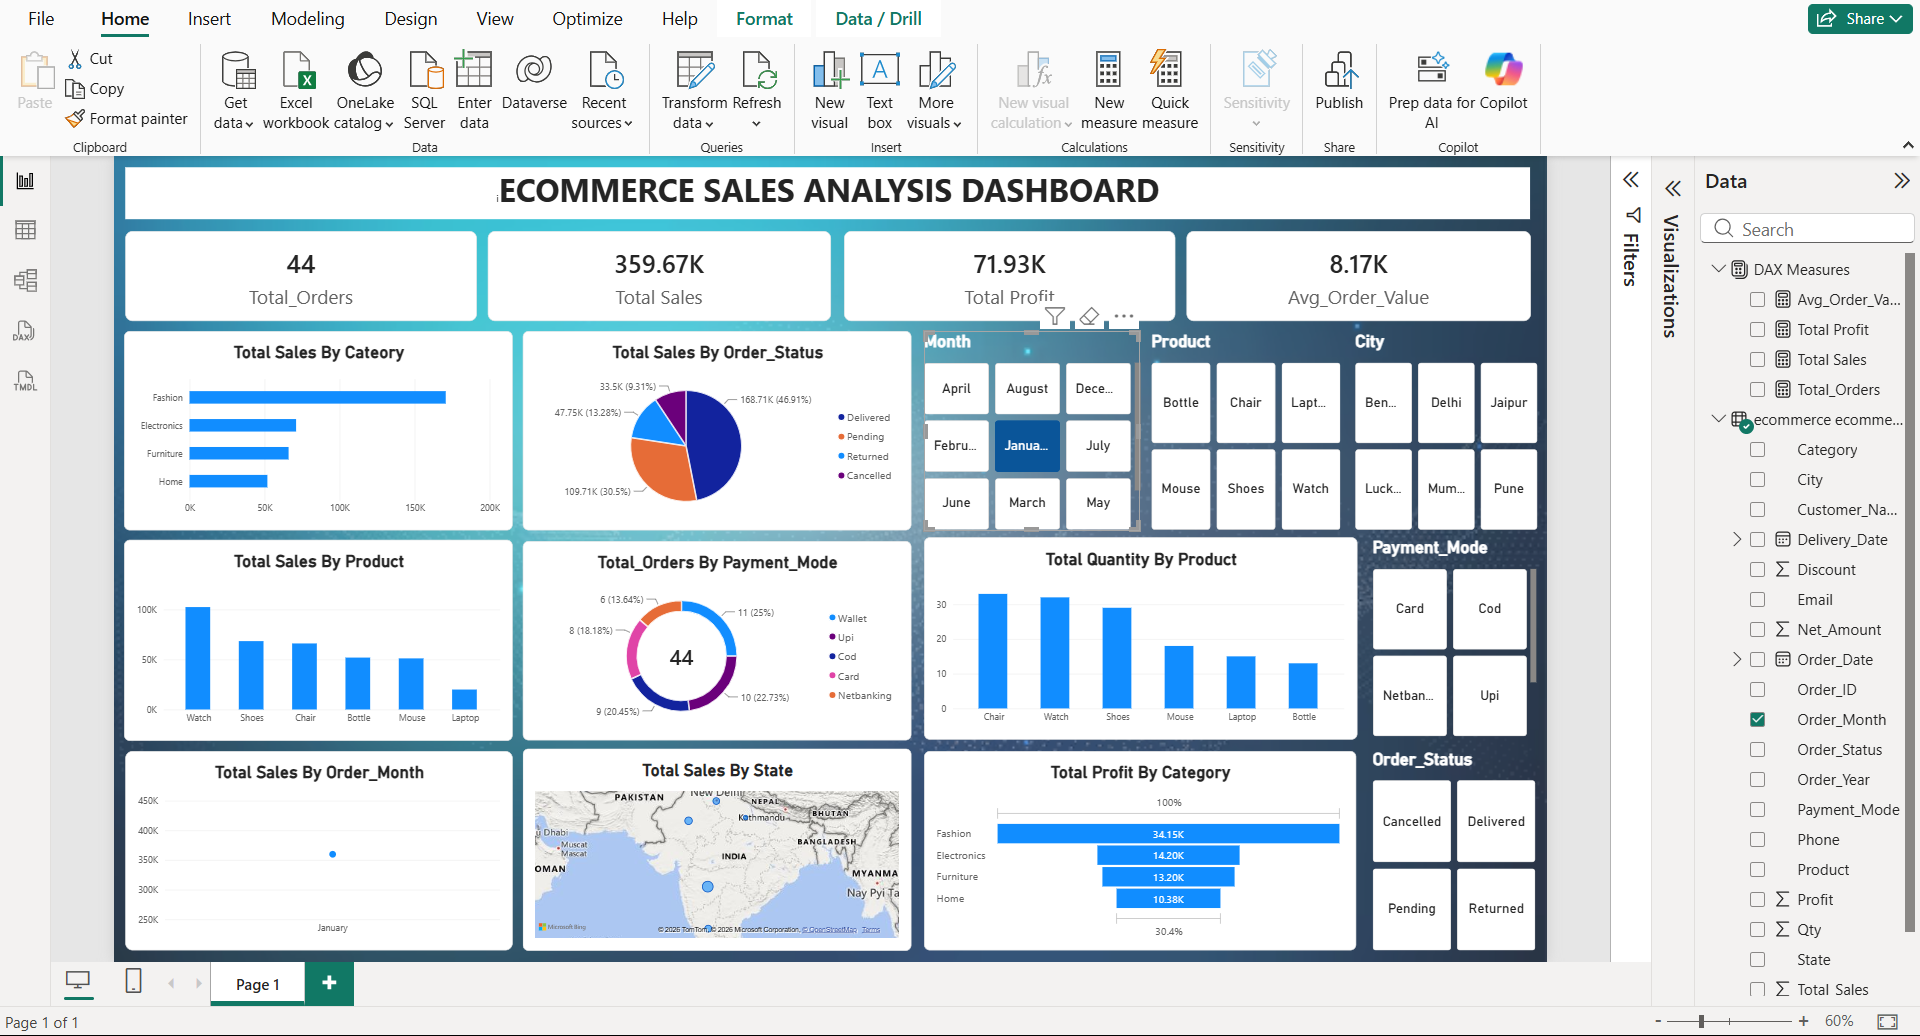

This screenshot's page, from the dashboard's own definition file:
{"tool":"powerbi","page":{"name":"Page 1","canvas":[1920,1080],"ordinal":0},"visuals":[{"type":"card","fields":{"Values":["DAX Measures.Total_Orders"]},"box":[15.4,100,471.2,121.2],"z":0},{"type":"card","fields":{"Values":["DAX Measures.Total Sales"]},"box":[500,100,459.6,121.2],"z":1},{"type":"card","fields":{"Values":["DAX Measures.Total Profit"]},"box":[978.8,100,444.2,121.2],"z":2},{"type":"card","fields":{"Values":["DAX Measures.Avg_Order_Value"]},"box":[1436.5,100,461.5,121.2],"z":3},{"type":"lineChart","fields":{"Y":["DAX Measures.Total Sales"],"Category":["ecommerce ecommerce_data.Order_Month"]},"box":[15.4,798.1,519.2,267.3],"z":4},{"type":"columnChart","fields":{"Y":["DAX Measures.Total Sales"],"Category":["ecommerce ecommerce_data.Product"]},"box":[13.5,513.5,521.2,269.2],"z":5},{"type":"columnChart","fields":{"Category":["ecommerce ecommerce_data.Product"],"Y":["Sum(ecommerce ecommerce_data.Qty)"]},"box":[1084.6,511.5,580.8,271.2],"z":6},{"type":"map","fields":{"Category":["ecommerce ecommerce_data.State","ecommerce ecommerce_data.City"],"Size":["DAX Measures.Total Sales"]},"box":[548.1,794.2,521.2,271.2],"z":7},{"type":"funnel","fields":{"Y":["DAX Measures.Total Profit"],"Category":["ecommerce ecommerce_data.Category"]},"box":[1084.6,798.1,578.8,267.3],"z":8},{"type":"donutChart","fields":{"Category":["ecommerce ecommerce_data.Payment_Mode"],"Y":["DAX Measures.Total_Orders"]},"box":[548.1,515.4,521.2,267.3],"z":9},{"type":"clusteredBarChart","fields":{"Category":["ecommerce ecommerce_data.Category"],"Y":["DAX Measures.Total Sales"]},"box":[13.5,234.6,521.2,267.3],"z":10},{"type":"pieChart","fields":{"Category":["ecommerce ecommerce_data.Order_Status"],"Y":["DAX Measures.Total Sales"]},"box":[548.1,234.6,521.2,267.3],"z":11},{"type":"advancedSlicerVisual","title":"Month","fields":{"Values":["ecommerce ecommerce_data.Order_Month"]},"box":[1084.6,234.6,290.4,267.3],"z":12},{"type":"advancedSlicerVisual","fields":{"Values":["ecommerce ecommerce_data.Order_Status"]},"box":[1686.5,794.2,219.2,271.2],"z":13},{"type":"advancedSlicerVisual","fields":{"Values":["ecommerce ecommerce_data.Payment_Mode"]},"box":[1686.5,511.5,219,267],"z":14},{"type":"advancedSlicerVisual","fields":{"Values":["ecommerce ecommerce_data.Product"]},"box":[1390.4,234.6,255.8,267.3],"z":15},{"type":"advancedSlicerVisual","fields":{"Values":["ecommerce ecommerce_data.City"]},"box":[1663.5,234.6,244.2,267.3],"z":16},{"type":"textbox","box":[100,100,300,300],"z":17},{"type":"textbox","box":[15.4,15.4,1882.7,69.2],"z":18}]}

Visuals, with their boxes on the page's 1920x1080 design canvas (x1, y1, x2, y2). These are canvas units, not pixel positions in the 1920x1036 screenshot, which may show the page scaled, cropped or inside an application window:
card - DAX Measures.Total_Orders: [x1=15, y1=100, x2=487, y2=221]
card - DAX Measures.Total Sales: [x1=500, y1=100, x2=960, y2=221]
card - DAX Measures.Total Profit: [x1=979, y1=100, x2=1423, y2=221]
card - DAX Measures.Avg_Order_Value: [x1=1436, y1=100, x2=1898, y2=221]
lineChart - DAX Measures.Total Sales x ecommerce ecommerce_data.Order_Month: [x1=15, y1=798, x2=535, y2=1065]
columnChart - DAX Measures.Total Sales x ecommerce ecommerce_data.Product: [x1=14, y1=514, x2=535, y2=783]
columnChart - ecommerce ecommerce_data.Product x Sum(ecommerce ecommerce_data.Qty): [x1=1085, y1=512, x2=1665, y2=783]
map - ecommerce ecommerce_data.State x ecommerce ecommerce_data.City: [x1=548, y1=794, x2=1069, y2=1065]
funnel - DAX Measures.Total Profit x ecommerce ecommerce_data.Category: [x1=1085, y1=798, x2=1663, y2=1065]
donutChart - ecommerce ecommerce_data.Payment_Mode x DAX Measures.Total_Orders: [x1=548, y1=515, x2=1069, y2=783]
clusteredBarChart - ecommerce ecommerce_data.Category x DAX Measures.Total Sales: [x1=14, y1=235, x2=535, y2=502]
pieChart - ecommerce ecommerce_data.Order_Status x DAX Measures.Total Sales: [x1=548, y1=235, x2=1069, y2=502]
"Month" advancedSlicerVisual: [x1=1085, y1=235, x2=1375, y2=502]
advancedSlicerVisual - ecommerce ecommerce_data.Order_Status: [x1=1686, y1=794, x2=1906, y2=1065]
advancedSlicerVisual - ecommerce ecommerce_data.Payment_Mode: [x1=1686, y1=512, x2=1906, y2=778]
advancedSlicerVisual - ecommerce ecommerce_data.Product: [x1=1390, y1=235, x2=1646, y2=502]
advancedSlicerVisual - ecommerce ecommerce_data.City: [x1=1664, y1=235, x2=1908, y2=502]
textbox: [x1=100, y1=100, x2=400, y2=400]
textbox: [x1=15, y1=15, x2=1898, y2=85]
